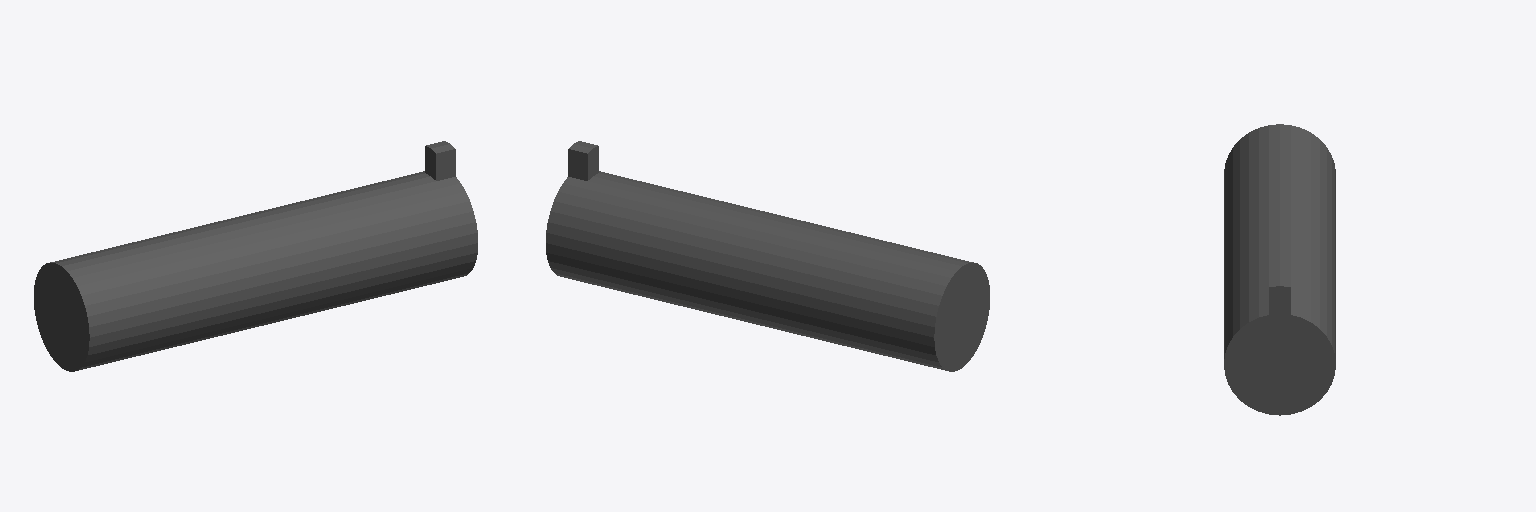
Rendered from Pistol.obj.
3 views of the same model, side by side, from view 1: azimuth 30°, elevation 25°; view 2: azimuth 150°, elevation 25°; view 3: azimuth 270°, elevation 25° (orthographic).
Visible parts, largest first — view 1: Cylinder; view 2: Cylinder; view 3: Cylinder.
Boxes of the visible parts, <box> form: Cylinder: <box>34,141,477,371</box>; Cylinder: <box>546,141,989,371</box>; Cylinder: <box>1224,124,1335,415</box>.
Size of the model in its own units: 8 by 2.54 by 2.